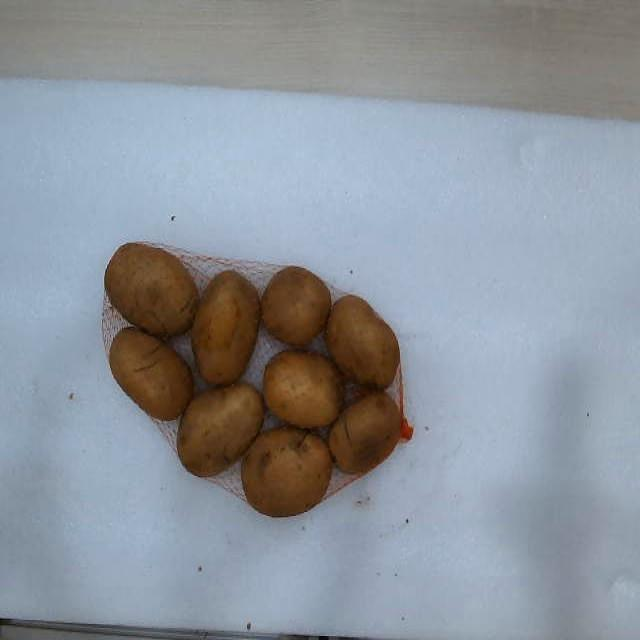potato: (104, 243, 199, 336), (178, 383, 264, 476), (242, 427, 331, 516), (191, 270, 260, 384), (109, 327, 194, 419), (325, 295, 400, 388), (264, 350, 342, 428), (331, 393, 402, 472), (261, 268, 331, 344)
